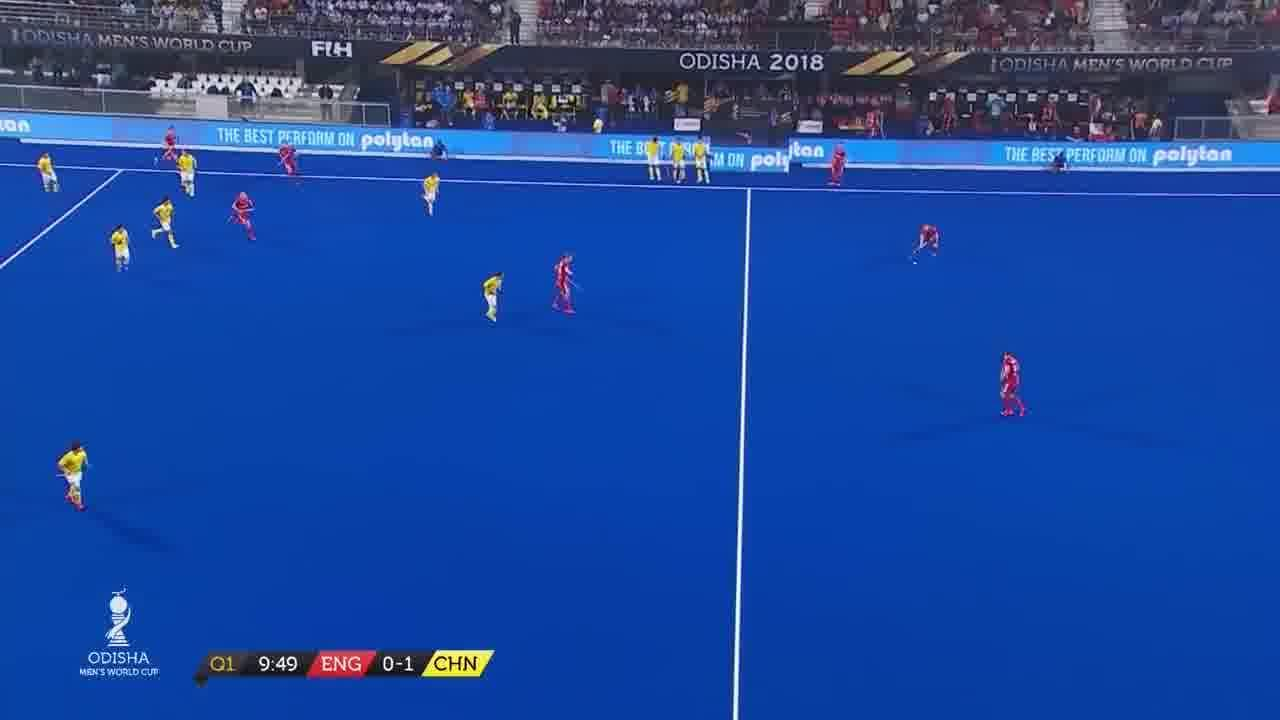ball: (910, 258, 920, 269)
